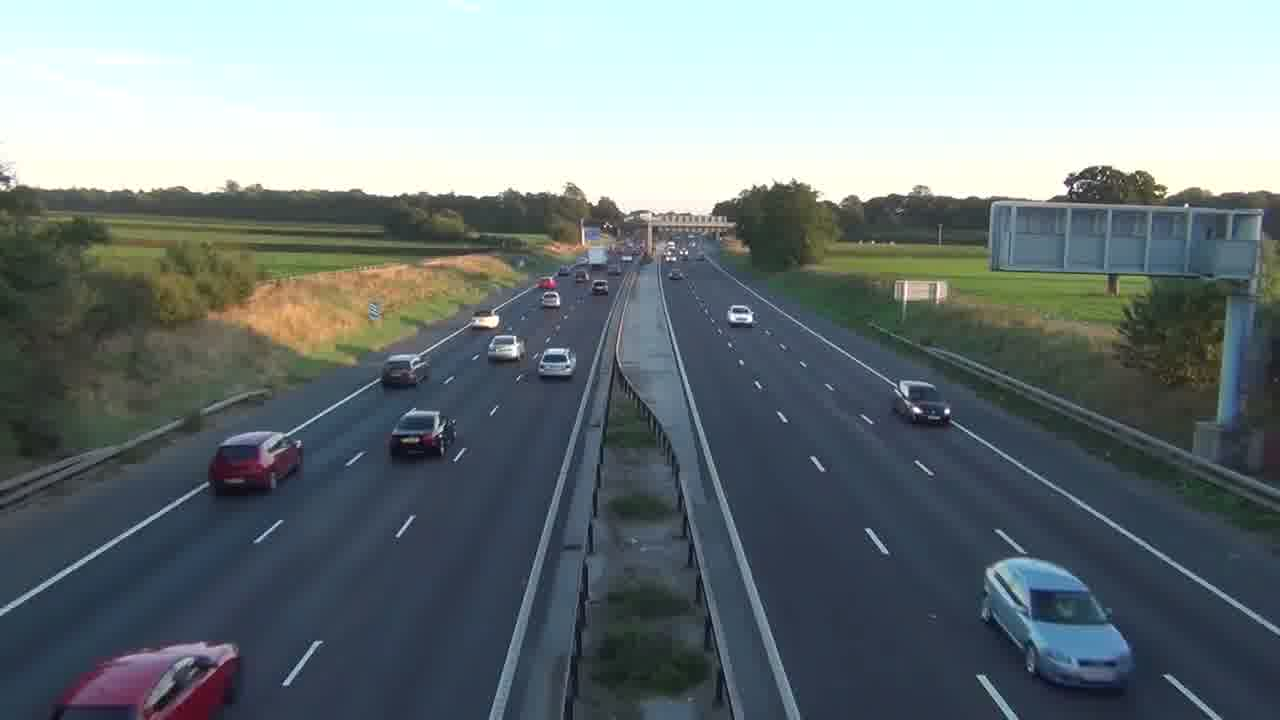car: (977, 556, 1137, 693), (50, 640, 241, 718), (206, 430, 304, 496), (388, 408, 454, 458), (891, 379, 952, 426), (381, 352, 432, 388), (536, 346, 576, 380), (487, 334, 524, 364), (727, 304, 755, 326), (592, 279, 608, 295)
